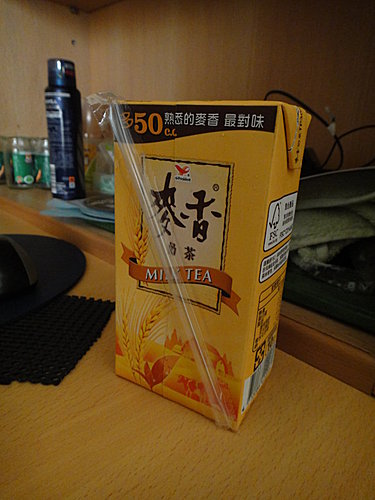milk tea: (110, 100, 306, 426)
